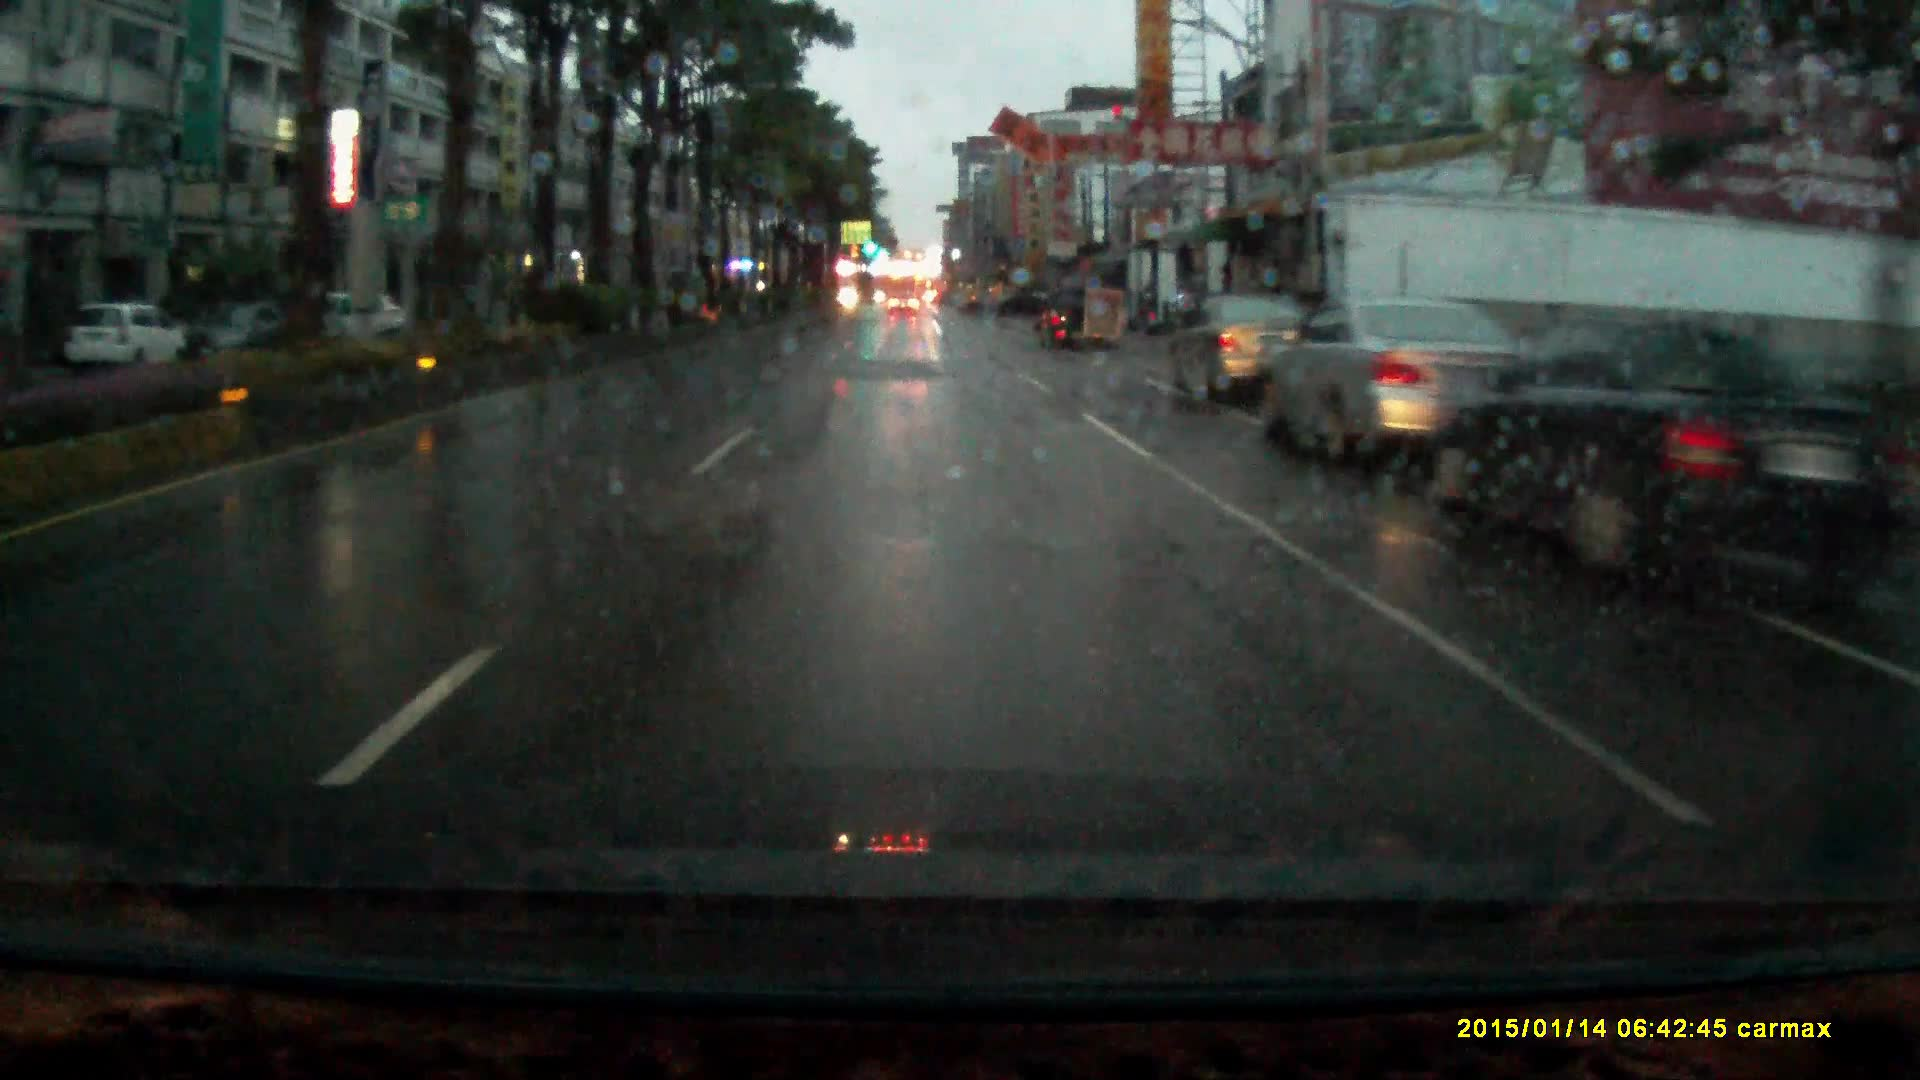vehicle: (1458, 311, 1753, 553), (1259, 295, 1615, 471), (1166, 298, 1317, 410), (264, 295, 396, 356), (84, 309, 193, 375), (1038, 287, 1109, 361), (887, 295, 920, 324)
